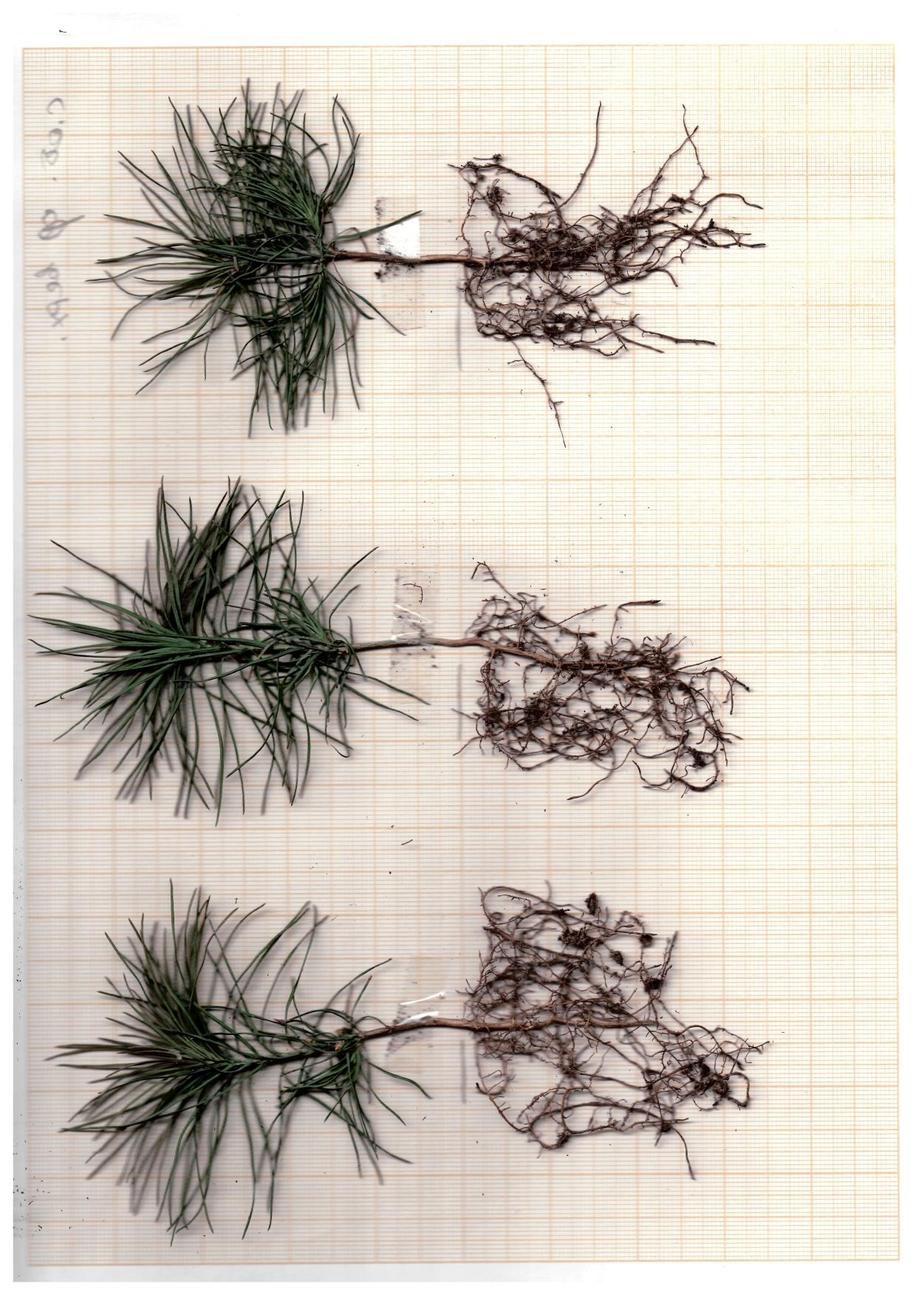root: (449, 98, 765, 447), (457, 875, 783, 1181), (447, 553, 752, 810)
seeding: (24, 478, 379, 830), (46, 899, 364, 1251), (82, 83, 366, 455)
stem: (363, 1007, 465, 1045), (335, 244, 465, 273), (356, 633, 465, 661)
